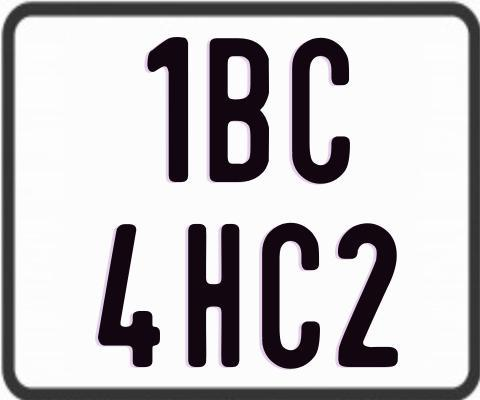1: (145, 35, 192, 183)
2: (338, 222, 404, 371)
4: (98, 223, 163, 368)
B: (209, 36, 270, 180)
C: (259, 221, 320, 369), (290, 36, 350, 183)
H: (185, 224, 237, 371)
